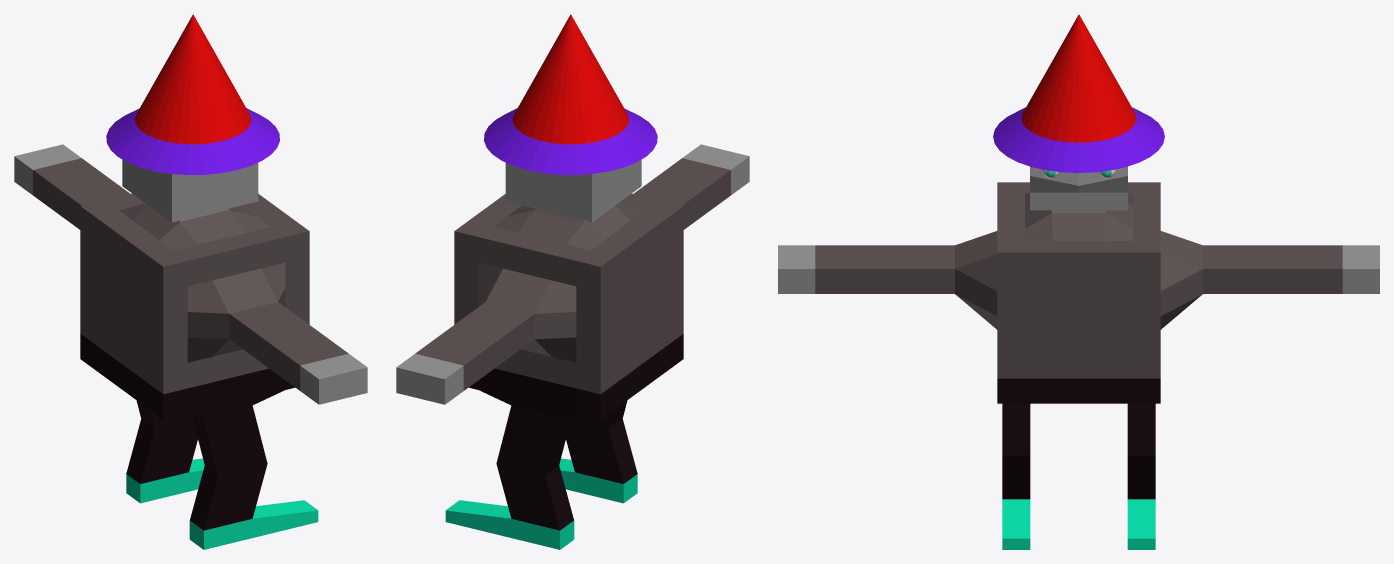
Rendered from Humanoid.fbx.
3 renders of one model, left to right at view 1: azimuth 30°, elevation 25°; view 2: azimuth 150°, elevation 25°; view 3: azimuth 270°, elevation 25°, orthographic.
Visible parts, largest first — view 1: Cube; view 2: Cube; view 3: Cube.
Boxes of the visible parts, x1,y1,x2,y2 form: Cube: (14,14,367,549); Cube: (396,14,749,549); Cube: (778,14,1379,549).
Size of the model in its own units: 722 by 654 by 221.
